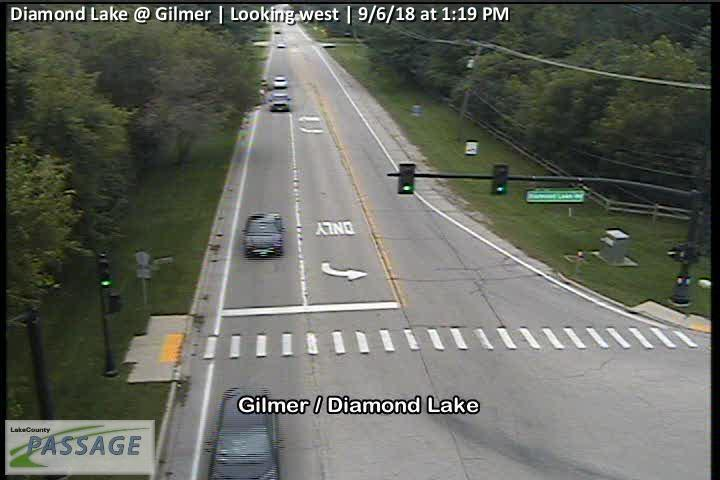SUV: (208, 386, 280, 480)
Sedan: (241, 211, 285, 257), (266, 89, 294, 113), (272, 75, 288, 89)
